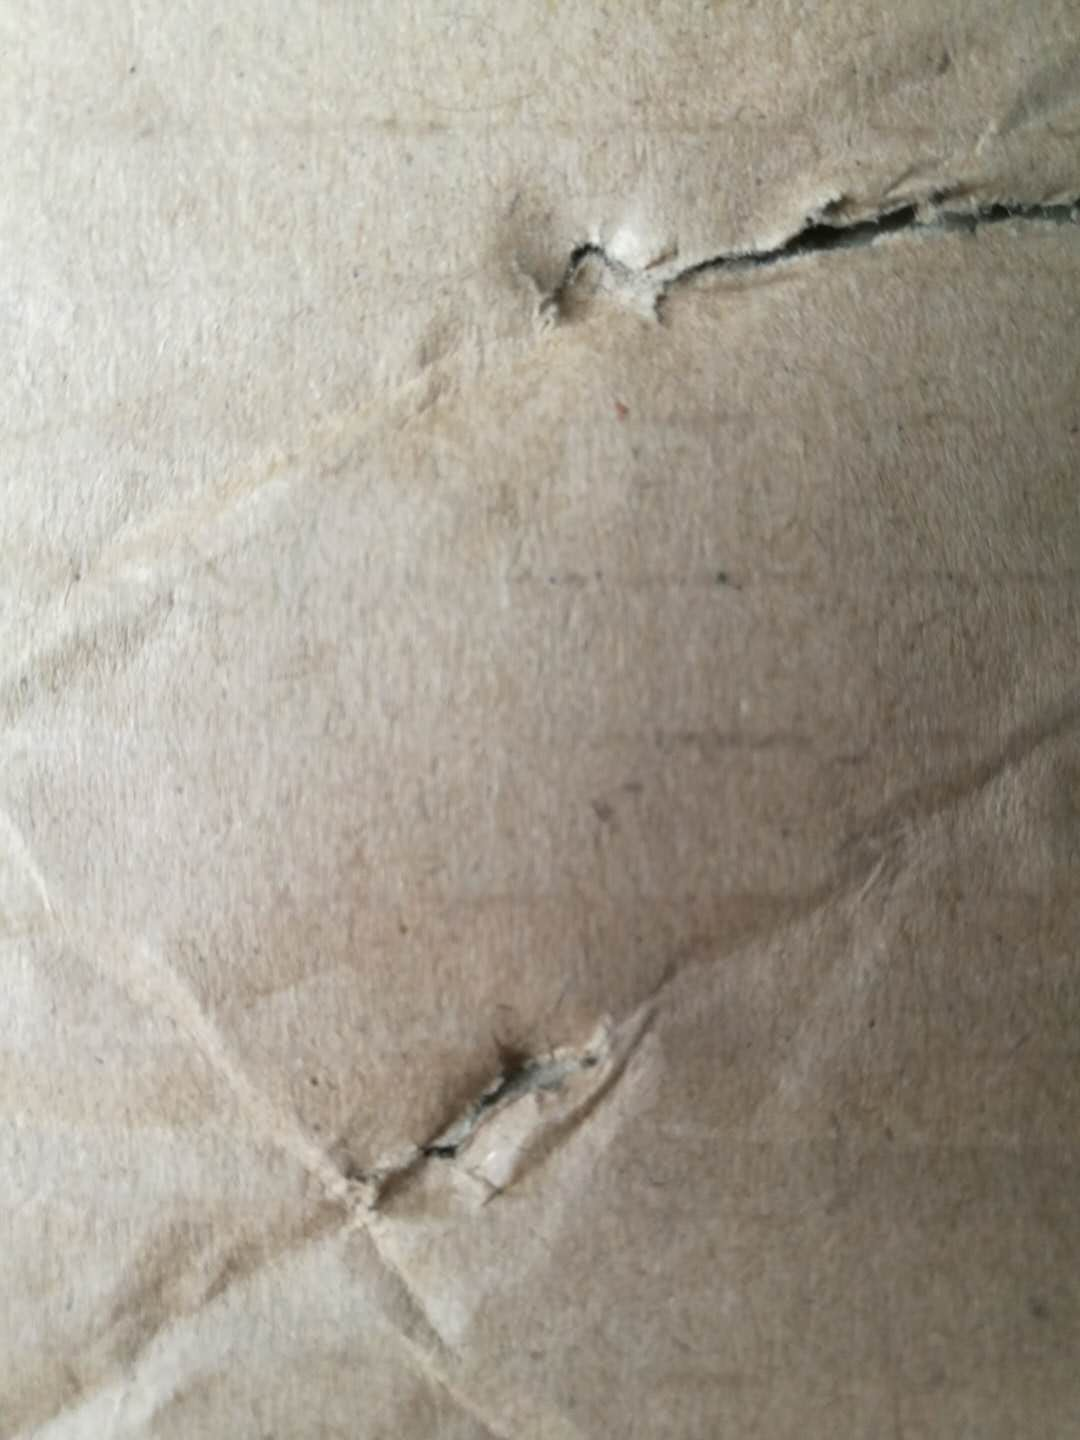defect: (6, 659, 1080, 1435), (3, 759, 616, 1440), (377, 90, 1080, 398), (3, 338, 472, 732)
